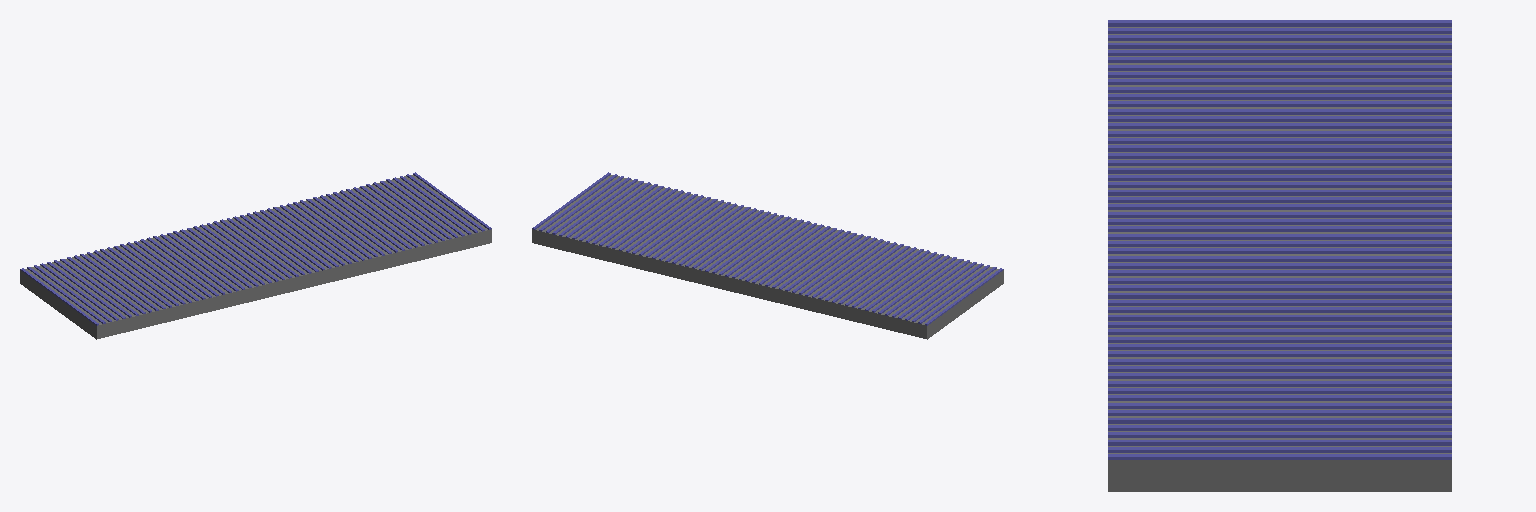
--- What the picture shows (computed from the rendered views, not written in the file) ---
3 views of the same robot in one strip: view 1: azimuth 30°, elevation 25°; view 2: azimuth 150°, elevation 25°; view 3: azimuth 270°, elevation 25° (orthographic).
Model generated_robot with 1 links and 0 joints (none), rooted at terrain, posed every joint at zero.
Visible links, largest first — view 1: terrain; view 2: terrain; view 3: terrain.
Boxes of the visible links, x1,y1,x2,y2 form: terrain: (20,172,491,339); terrain: (532,172,1003,339); terrain: (1108,20,1451,491).
Bounding box of the posed robot: 1.5 × 0.5 × 0.055 m (x, y, z).
Geometry: primitives only (box / cylinder / sphere), no mesh files.

robot.urdf — generated_robot:
<?xml version='1.0' encoding='utf-8'?>
<robot xmlns:drake="http://drake.mit.edu" name="generated_robot">
  <link name="terrain">
    <visual>
      <origin xyz="0 0 0" rpy="0 0 0" />
      <geometry>
        <box size="1.5 0.5 0.05" />
      </geometry>
      <material name="base_mat">
        <color rgba="0.5 0.5 0.5 1.0" />
      </material>
    </visual>
    <collision>
      <origin xyz="0 0 0" rpy="0 0 0" />
      <geometry>
        <box size="1.5 0.5 0.05" />
      </geometry>
      <drake:proximity_properties>
        <drake:compliant_hydroelastic />
        <drake:hydroelastic_modulus value="5e7" />
        <drake:hunt_crossley_dissipation value="1.0" />
        <drake:resolution_hint value="0.01" />
        <drake:mu_static value="0.15" />
        <drake:mu_dynamic value="0.12" />
      </drake:proximity_properties>
    </collision>
    <visual>
      <origin xyz="-0.745 0.0 0.0275" rpy="0 0 0" />
      <geometry>
        <box size="0.01 0.5 0.005" />
      </geometry>
      <material name="bump_0_mat">
        <color rgba="0.4 0.4 0.7 1.0" />
      </material>
    </visual>
    <collision>
      <origin xyz="-0.745 0.0 0.0275" rpy="0 0 0" />
      <geometry>
        <box size="0.01 0.5 0.005" />
      </geometry>
      <drake:proximity_properties>
        <drake:compliant_hydroelastic />
        <drake:hydroelastic_modulus value="5e7" />
        <drake:hunt_crossley_dissipation value="1.0" />
        <drake:resolution_hint value="0.01" />
        <drake:mu_static value="0.15" />
        <drake:mu_dynamic value="0.12" />
      </drake:proximity_properties>
    </collision>
    <visual>
      <origin xyz="-0.7197457627118644 0.0 0.0275" rpy="0 0 0" />
      <geometry>
        <box size="0.01 0.5 0.005" />
      </geometry>
      <material name="bump_1_mat">
        <color rgba="0.4 0.4 0.7 1.0" />
      </material>
    </visual>
    <collision>
      <origin xyz="-0.7197457627118644 0.0 0.0275" rpy="0 0 0" />
      <geometry>
        <box size="0.01 0.5 0.005" />
      </geometry>
      <drake:proximity_properties>
        <drake:compliant_hydroelastic />
        <drake:hydroelastic_modulus value="5e7" />
        <drake:hunt_crossley_dissipation value="1.0" />
        <drake:resolution_hint value="0.01" />
        <drake:mu_static value="0.15" />
        <drake:mu_dynamic value="0.12" />
      </drake:proximity_properties>
    </collision>
    <visual>
      <origin xyz="-0.6944915254237288 0.0 0.0275" rpy="0 0 0" />
      <geometry>
        <box size="0.01 0.5 0.005" />
      </geometry>
      <material name="bump_2_mat">
        <color rgba="0.4 0.4 0.7 1.0" />
      </material>
    </visual>
    <collision>
      <origin xyz="-0.6944915254237288 0.0 0.0275" rpy="0 0 0" />
      <geometry>
        <box size="0.01 0.5 0.005" />
      </geometry>
      <drake:proximity_properties>
        <drake:compliant_hydroelastic />
        <drake:hydroelastic_modulus value="5e7" />
        <drake:hunt_crossley_dissipation value="1.0" />
        <drake:resolution_hint value="0.01" />
        <drake:mu_static value="0.15" />
        <drake:mu_dynamic value="0.12" />
      </drake:proximity_properties>
    </collision>
    <visual>
      <origin xyz="-0.6692372881355932 0.0 0.0275" rpy="0 0 0" />
      <geometry>
        <box size="0.01 0.5 0.005" />
      </geometry>
      <material name="bump_3_mat">
        <color rgba="0.4 0.4 0.7 1.0" />
      </material>
    </visual>
    <collision>
      <origin xyz="-0.6692372881355932 0.0 0.0275" rpy="0 0 0" />
      <geometry>
        <box size="0.01 0.5 0.005" />
      </geometry>
      <drake:proximity_properties>
        <drake:compliant_hydroelastic />
        <drake:hydroelastic_modulus value="5e7" />
        <drake:hunt_crossley_dissipation value="1.0" />
        <drake:resolution_hint value="0.01" />
        <drake:mu_static value="0.15" />
        <drake:mu_dynamic value="0.12" />
      </drake:proximity_properties>
    </collision>
    <visual>
      <origin xyz="-0.6439830508474577 0.0 0.0275" rpy="0 0 0" />
      <geometry>
        <box size="0.01 0.5 0.005" />
      </geometry>
      <material name="bump_4_mat">
        <color rgba="0.4 0.4 0.7 1.0" />
      </material>
    </visual>
    <collision>
      <origin xyz="-0.6439830508474577 0.0 0.0275" rpy="0 0 0" />
      <geometry>
        <box size="0.01 0.5 0.005" />
      </geometry>
      <drake:proximity_properties>
        <drake:compliant_hydroelastic />
        <drake:hydroelastic_modulus value="5e7" />
        <drake:hunt_crossley_dissipation value="1.0" />
        <drake:resolution_hint value="0.01" />
        <drake:mu_static value="0.15" />
        <drake:mu_dynamic value="0.12" />
      </drake:proximity_properties>
    </collision>
    <visual>
      <origin xyz="-0.6187288135593221 0.0 0.0275" rpy="0 0 0" />
      <geometry>
        <box size="0.01 0.5 0.005" />
      </geometry>
      <material name="bump_5_mat">
        <color rgba="0.4 0.4 0.7 1.0" />
      </material>
    </visual>
    <collision>
      <origin xyz="-0.6187288135593221 0.0 0.0275" rpy="0 0 0" />
      <geometry>
        <box size="0.01 0.5 0.005" />
      </geometry>
      <drake:proximity_properties>
        <drake:compliant_hydroelastic />
        <drake:hydroelastic_modulus value="5e7" />
        <drake:hunt_crossley_dissipation value="1.0" />
        <drake:resolution_hint value="0.01" />
        <drake:mu_static value="0.15" />
        <drake:mu_dynamic value="0.12" />
      </drake:proximity_properties>
    </collision>
    <visual>
      <origin xyz="-0.5934745762711864 0.0 0.0275" rpy="0 0 0" />
      <geometry>
        <box size="0.01 0.5 0.005" />
      </geometry>
      <material name="bump_6_mat">
        <color rgba="0.4 0.4 0.7 1.0" />
      </material>
    </visual>
    <collision>
      <origin xyz="-0.5934745762711864 0.0 0.0275" rpy="0 0 0" />
      <geometry>
        <box size="0.01 0.5 0.005" />
      </geometry>
      <drake:proximity_properties>
        <drake:compliant_hydroelastic />
        <drake:hydroelastic_modulus value="5e7" />
        <drake:hunt_crossley_dissipation value="1.0" />
        <drake:resolution_hint value="0.01" />
        <drake:mu_static value="0.15" />
        <drake:mu_dynamic value="0.12" />
      </drake:proximity_properties>
    </collision>
    <visual>
      <origin xyz="-0.5682203389830508 0.0 0.0275" rpy="0 0 0" />
      <geometry>
        <box size="0.01 0.5 0.005" />
      </geometry>
      <material name="bump_7_mat">
        <color rgba="0.4 0.4 0.7 1.0" />
      </material>
    </visual>
    <collision>
      <origin xyz="-0.5682203389830508 0.0 0.0275" rpy="0 0 0" />
      <geometry>
        <box size="0.01 0.5 0.005" />
      </geometry>
      <drake:proximity_properties>
        <drake:compliant_hydroelastic />
        <drake:hydroelastic_modulus value="5e7" />
        <drake:hunt_crossley_dissipation value="1.0" />
        <drake:resolution_hint value="0.01" />
        <drake:mu_static value="0.15" />
        <drake:mu_dynamic value="0.12" />
      </drake:proximity_properties>
    </collision>
    <visual>
      <origin xyz="-0.5429661016949152 0.0 0.0275" rpy="0 0 0" />
      <geometry>
        <box size="0.01 0.5 0.005" />
      </geometry>
      <material name="bump_8_mat">
        <color rgba="0.4 0.4 0.7 1.0" />
      </material>
    </visual>
    <collision>
      <origin xyz="-0.5429661016949152 0.0 0.0275" rpy="0 0 0" />
      <geometry>
        <box size="0.01 0.5 0.005" />
      </geometry>
      <drake:proximity_properties>
        <drake:compliant_hydroelastic />
        <drake:hydroelastic_modulus value="5e7" />
        <drake:hunt_crossley_dissipation value="1.0" />
        <drake:resolution_hint value="0.01" />
        <drake:mu_static value="0.15" />
        <drake:mu_dynamic value="0.12" />
      </drake:proximity_properties>
    </collision>
    <visual>
      <origin xyz="-0.5177118644067796 0.0 0.0275" rpy="0 0 0" />
      <geometry>
        <box size="0.01 0.5 0.005" />
      </geometry>
      <material name="bump_9_mat">
        <color rgba="0.4 0.4 0.7 1.0" />
      </material>
    </visual>
    <collision>
      <origin xyz="-0.5177118644067796 0.0 0.0275" rpy="0 0 0" />
      <geometry>
        <box size="0.01 0.5 0.005" />
      </geometry>
      <drake:proximity_properties>
        <drake:compliant_hydroelastic />
        <drake:hydroelastic_modulus value="5e7" />
        <drake:hunt_crossley_dissipation value="1.0" />
        <drake:resolution_hint value="0.01" />
        <drake:mu_static value="0.15" />
        <drake:mu_dynamic value="0.12" />
      </drake:proximity_properties>
    </collision>
    <visual>
      <origin xyz="-0.49245762711864405 0.0 0.0275" rpy="0 0 0" />
      <geometry>
        <box size="0.01 0.5 0.005" />
      </geometry>
      <material name="bump_10_mat">
        <color rgba="0.4 0.4 0.7 1.0" />
      </material>
    </visual>
    <collision>
      <origin xyz="-0.49245762711864405 0.0 0.0275" rpy="0 0 0" />
      <geometry>
        <box size="0.01 0.5 0.005" />
      </geometry>
      <drake:proximity_properties>
        <drake:compliant_hydroelastic />
        <drake:hydroelastic_modulus value="5e7" />
        <drake:hunt_crossley_dissipation value="1.0" />
        <drake:resolution_hint value="0.01" />
        <drake:mu_static value="0.15" />
        <drake:mu_dynamic value="0.12" />
      </drake:proximity_properties>
    </collision>
    <visual>
      <origin xyz="-0.46720338983050846 0.0 0.0275" rpy="0 0 0" />
      <geometry>
        <box size="0.01 0.5 0.005" />
      </geometry>
      <material name="bump_11_mat">
        <color rgba="0.4 0.4 0.7 1.0" />
      </material>
    </visual>
    <collision>
      <origin xyz="-0.46720338983050846 0.0 0.0275" rpy="0 0 0" />
      <geometry>
        <box size="0.01 0.5 0.005" />
      </geometry>
      <drake:proximity_properties>
        <drake:compliant_hydroelastic />
        <drake:hydroelastic_modulus value="5e7" />
        <drake:hunt_crossley_dissipation value="1.0" />
        <drake:resolution_hint value="0.01" />
        <drake:mu_static value="0.15" />
        <drake:mu_dynamic value="0.12" />
      </drake:proximity_properties>
    </collision>
    <visual>
      <origin xyz="-0.4419491525423729 0.0 0.0275" rpy="0 0 0" />
      <geometry>
        <box size="0.01 0.5 0.005" />
      </geometry>
      <material name="bump_12_mat">
        <color rgba="0.4 0.4 0.7 1.0" />
      </material>
    </visual>
    <collision>
      <origin xyz="-0.4419491525423729 0.0 0.0275" rpy="0 0 0" />
      <geometry>
        <box size="0.01 0.5 0.005" />
      </geometry>
      <drake:proximity_properties>
        <drake:compliant_hydroelastic />
        <drake:hydroelastic_modulus value="5e7" />
        <drake:hunt_crossley_dissipation value="1.0" />
        <drake:resolution_hint value="0.01" />
        <drake:mu_static value="0.15" />
        <drake:mu_dynamic value="0.12" />
      </drake:proximity_properties>
    </collision>
    <visual>
      <origin xyz="-0.4166949152542373 0.0 0.0275" rpy="0 0 0" />
      <geometry>
        <box size="0.01 0.5 0.005" />
      </geometry>
      <material name="bump_13_mat">
        <color rgba="0.4 0.4 0.7 1.0" />
      </material>
    </visual>
    <collision>
      <origin xyz="-0.4166949152542373 0.0 0.0275" rpy="0 0 0" />
      <geometry>
        <box size="0.01 0.5 0.005" />
      </geometry>
      <drake:proximity_properties>
        <drake:compliant_hydroelastic />
        <drake:hydroelastic_modulus value="5e7" />
        <drake:hunt_crossley_dissipation value="1.0" />
        <drake:resolution_hint value="0.01" />
        <drake:mu_static value="0.15" />
        <drake:mu_dynamic value="0.12" />
      </drake:proximity_properties>
    </collision>
    <visual>
      <origin xyz="-0.39144067796610166 0.0 0.0275" rpy="0 0 0" />
      <geometry>
        <box size="0.01 0.5 0.005" />
      </geometry>
      <material name="bump_14_mat">
        <color rgba="0.4 0.4 0.7 1.0" />
      </material>
    </visual>
    <collision>
      <origin xyz="-0.39144067796610166 0.0 0.0275" rpy="0 0 0" />
      <geometry>
        <box size="0.01 0.5 0.005" />
      </geometry>
      <drake:proximity_properties>
        <drake:compliant_hydroelastic />
        <drake:hydroelastic_modulus value="5e7" />
        <drake:hunt_crossley_dissipation value="1.0" />
        <drake:resolution_hint value="0.01" />
        <drake:mu_static value="0.15" />
        <drake:mu_dynamic value="0.12" />
      </drake:proximity_properties>
    </collision>
    <visual>
      <origin xyz="-0.3661864406779661 0.0 0.0275" rpy="0 0 0" />
      <geometry>
        <box size="0.01 0.5 0.005" />
      </geometry>
      <material name="bump_15_mat">
        <color rgba="0.4 0.4 0.7 1.0" />
      </material>
    </visual>
    <collision>
      <origin xyz="-0.3661864406779661 0.0 0.0275" rpy="0 0 0" />
      <geometry>
        <box size="0.01 0.5 0.005" />
      </geometry>
      <drake:proximity_properties>
        <drake:compliant_hydroelastic />
        <drake:hydroelastic_modulus value="5e7" />
        <drake:hunt_crossley_dissipation value="1.0" />
        <drake:resolution_hint value="0.01" />
        <drake:mu_static value="0.15" />
        <drake:mu_dynamic value="0.12" />
      </drake:proximity_properties>
    </collision>
    <visual>
      <origin xyz="-0.3409322033898305 0.0 0.0275" rpy="0 0 0" />
      <geometry>
        <box size="0.01 0.5 0.005" />
      </geometry>
      <material name="bump_16_mat">
        <color rgba="0.4 0.4 0.7 1.0" />
      </material>
    </visual>
    <collision>
      <origin xyz="-0.3409322033898305 0.0 0.0275" rpy="0 0 0" />
      <geometry>
        <box size="0.01 0.5 0.005" />
      </geometry>
      <drake:proximity_properties>
        <drake:compliant_hydroelastic />
        <drake:hydroelastic_modulus value="5e7" />
        <drake:hunt_crossley_dissipation value="1.0" />
        <drake:resolution_hint value="0.01" />
        <drake:mu_static value="0.15" />
        <drake:mu_dynamic value="0.12" />
      </drake:proximity_properties>
    </collision>
    <visual>
      <origin xyz="-0.3156779661016949 0.0 0.0275" rpy="0 0 0" />
      <geometry>
        <box size="0.01 0.5 0.005" />
      </geometry>
      <material name="bump_17_mat">
        <color rgba="0.4 0.4 0.7 1.0" />
      </material>
    </visual>
    <collision>
      <origin xyz="-0.3156779661016949 0.0 0.0275" rpy="0 0 0" />
      <geometry>
        <box size="0.01 0.5 0.005" />
      </geometry>
      <drake:proximity_properties>
        <drake:compliant_hydroelastic />
        <drake:hydroelastic_modulus value="5e7" />
        <drake:hunt_crossley_dissipation value="1.0" />
        <drake:resolution_hint value="0.01" />
        <drake:mu_static value="0.15" />
        <drake:mu_dynamic value="0.12" />
      </drake:proximity_properties>
    </collision>
    <visual>
      <origin xyz="-0.2904237288135593 0.0 0.0275" rpy="0 0 0" />
      <geometry>
        <box size="0.01 0.5 0.005" />
      </geometry>
      <material name="bump_18_mat">
        <color rgba="0.4 0.4 0.7 1.0" />
      </material>
    </visual>
    <collision>
      <origin xyz="-0.2904237288135593 0.0 0.0275" rpy="0 0 0" />
      <geometry>
        <box size="0.01 0.5 0.005" />
      </geometry>
      <drake:proximity_properties>
        <drake:compliant_hydroelastic />
        <drake:hydroelastic_modulus value="5e7" />
        <drake:hunt_crossley_dissipation value="1.0" />
        <drake:resolution_hint value="0.01" />
        <drake:mu_static value="0.15" />
        <drake:mu_dynamic value="0.12" />
      </drake:proximity_properties>
    </collision>
    <visual>
      <origin xyz="-0.2651694915254237 0.0 0.0275" rpy="0 0 0" />
      <geometry>
        <box size="0.01 0.5 0.005" />
      </geometry>
      <material name="bump_19_mat">
        <color rgba="0.4 0.4 0.7 1.0" />
      </material>
    </visual>
    <collision>
      <origin xyz="-0.2651694915254237 0.0 0.0275" rpy="0 0 0" />
      <geometry>
        <box size="0.01 0.5 0.005" />
      </geometry>
      <drake:proximity_properties>
        <drake:compliant_hydroelastic />
        <drake:hydroelastic_modulus value="5e7" />
        <drake:hunt_crossley_dissipation value="1.0" />
        <drake:resolution_hint value="0.01" />
        <drake:mu_static value="0.15" />
        <drake:mu_dynamic value="0.12" />
      </drake:proximity_properties>
    </collision>
    <visual>
      <origin xyz="-0.2399152542372881 0.0 0.0275" rpy="0 0 0" />
      <geometry>
        <box size="0.01 0.5 0.005" />
      </geometry>
      <material name="bump_20_mat">
        <color rgba="0.4 0.4 0.7 1.0" />
      </material>
    </visual>
    <collision>
      <origin xyz="-0.2399152542372881 0.0 0.0275" rpy="0 0 0" />
      <geometry>
        <box size="0.01 0.5 0.005" />
      </geometry>
      <drake:proximity_properties>
        <drake:compliant_hydroelastic />
        <drake:hydroelastic_modulus value="5e7" />
        <drake:hunt_crossley_dissipation value="1.0" />
        <drake:resolution_hint value="0.01" />
        <drake:mu_static value="0.15" />
        <drake:mu_dynamic value="0.12" />
      </drake:proximity_properties>
    </collision>
    <visual>
      <origin xyz="-0.21466101694915252 0.0 0.0275" rpy="0 0 0" />
      <geometry>
        <box size="0.01 0.5 0.005" />
      </geometry>
      <material name="bump_21_mat">
        <color rgba="0.4 0.4 0.7 1.0" />
      </material>
    </visual>
    <collision>
      <origin xyz="-0.21466101694915252 0.0 0.0275" rpy="0 0 0" />
      <geometry>
        <box size="0.01 0.5 0.005" />
      </geometry>
      <drake:proximity_properties>
        <drake:compliant_hydroelastic />
        <drake:hydroelastic_modulus value="5e7" />
        <drake:hunt_crossley_dissipation value="1.0" />
        <drake:resolution_hint value="0.01" />
        <drake:mu_static value="0.15" />
        <drake:mu_dynamic value="0.12" />
      </drake:proximity_properties>
    </collision>
    <visual>
      <origin xyz="-0.18940677966101693 0.0 0.0275" rpy="0 0 0" />
      <geometry>
        <box size="0.01 0.5 0.005" />
      </geometry>
      <material name="bump_22_mat">
        <color rgba="0.4 0.4 0.7 1.0" />
      </material>
    </visual>
    <collision>
      <origin xyz="-0.18940677966101693 0.0 0.0275" rpy="0 0 0" />
      <geometry>
        <box size="0.01 0.5 0.005" />
      </geometry>
      <drake:proximity_properties>
        <drake:compliant_hydroelastic />
        <drake:hydroelastic_modulus value="5e7" />
        <drake:hunt_crossley_dissipation value="1.0" />
        <drake:resolution_hint value="0.01" />
        <drake:mu_static value="0.15" />
        <drake:mu_dynamic value="0.12" />
      </drake:proximity_properties>
    </collision>
    <visual>
      <origin xyz="-0.16415254237288135 0.0 0.0275" rpy="0 0 0" />
      <geometry>
        <box size="0.01 0.5 0.005" />
      </geometry>
      <material name="bump_23_mat">
        <color rgba="0.4 0.4 0.7 1.0" />
      </material>
    </visual>
    <collision>
      <origin xyz="-0.16415254237288135 0.0 0.0275" rpy="0 0 0" />
      <geometry>
        <box size="0.01 0.5 0.005" />
      </geometry>
      <drake:proximity_properties>
        <drake:compliant_hydroelastic />
        <drake:hydroelastic_modulus value="5e7" />
        <drake:hunt_crossley_dissipation value="1.0" />
        <drake:resolution_hint value="0.01" />
        <drake:mu_static value="0.15" />
        <drake:mu_dynamic value="0.12" />
      </drake:proximity_properties>
    </collision>
    <visual>
      <origin xyz="-0.13889830508474577 0.0 0.0275" rpy="0 0 0" />
      <geometry>
        <box size="0.01 0.5 0.005" />
      </geometry>
      <material name="bump_24_mat">
        <color rgba="0.4 0.4 0.7 1.0" />
      </material>
    </visual>
    <collision>
      <origin xyz="-0.13889830508474577 0.0 0.0275" rpy="0 0 0" />
      <geometry>
        <box size="0.01 0.5 0.005" />
      </geometry>
      <drake:proximity_properties>
        <drake:compliant_hydroelastic />
        <drake:hydroelastic_modulus value="5e7" />
        <drake:hunt_crossley_dissipation value="1.0" />
        <drake:resolution_hint value="0.01" />
        <drake:mu_static value="0.15" />
        <drake:mu_dynamic value="0.12" />
      </drake:proximity_properties>
    </collision>
    <visual>
      <origin xyz="-0.11364406779661018 0.0 0.0275" rpy="0 0 0" />
      <geometry>
        <box size="0.01 0.5 0.005" />
      </geometry>
      <material name="bump_25_mat">
        <color rgba="0.4 0.4 0.7 1.0" />
      </material>
    </visual>
    <collision>
      <origin xyz="-0.11364406779661018 0.0 0.0275" rpy="0 0 0" />
      <geometry>
        <box size="0.01 0.5 0.005" />
      </geometry>
      <drake:proximity_properties>
        <drake:compliant_hydroelastic />
        <drake:hydroelastic_modulus value="5e7" />
        <drake:hunt_crossley_dissipation value="1.0" />
        <drake:resolution_hint value="0.01" />
        <drake:mu_static value="0.15" />
        <drake:mu_dynamic value="0.12" />
      </drake:proximity_properties>
    </collision>
    <visual>
      <origin xyz="-0.0883898305084746 0.0 0.0275" rpy="0 0 0" />
      <geometry>
        <box size="0.01 0.5 0.005" />
      </geometry>
      <material name="bump_26_mat">
        <color rgba="0.4 0.4 0.7 1.0" />
      </material>
    </visual>
    <collision>
      <origin xyz="-0.0883898305084746 0.0 0.0275" rpy="0 0 0" />
      <geometry>
        <box size="0.01 0.5 0.005" />
      </geometry>
      <drake:proximity_properties>
        <drake:compliant_hydroelastic />
        <drake:hydroelastic_modulus value="5e7" />
        <drake:hunt_crossley_dissipation value="1.0" />
        <drake:resolution_hint value="0.01" />
        <drake:mu_static value="0.15" />
        <drake:mu_dynamic value="0.12" />
      </drake:proximity_properties>
    </collision>
    <visual>
      <origin xyz="-0.0631355932203389 0.0 0.0275" rpy="0 0 0" />
      <geometry>
        <box size="0.01 0.5 0.005" />
      </geometry>
      <material name="bump_27_mat">
        <color rgba="0.4 0.4 0.7 1.0" />
      </material>
    </visual>
    <collision>
      <origin xyz="-0.0631355932203389 0.0 0.0275" rpy="0 0 0" />
      <geometry>
        <box size="0.01 0.5 0.005" />
      </geometry>
      <drake:proximity_properties>
        <drake:compliant_hydroelastic />
        <drake:hydroelastic_modulus value="5e7" />
        <drake:hunt_crossley_dissipation value="1.0" />
        <drake:resolution_hint value="0.01" />
        <drake:mu_static value="0.15" />
        <drake:mu_dynamic value="0.12" />
      </drake:proximity_properties>
    </collision>
    <visual>
      <origin xyz="-0.03788135593220332 0.0 0.0275" rpy="0 0 0" />
      <geometry>
        <box size="0.01 0.5 0.005" />
      </geometry>
      <material name="bump_28_mat">
        <color rgba="0.4 0.4 0.7 1.0" />
      </material>
    </visual>
    <collision>
      <origin xyz="-0.03788135593220332 0.0 0.0275" rpy="0 0 0" />
      <geometry>
        <box size="0.01 0.5 0.005" />
      </geometry>
      <drake:proximity_properties>
        <drake:compliant_hydroelastic />
        <drake:hydroelastic_modulus value="5e7" />
        <drake:hunt_crossley_dissipation value="1.0" />
        <drake:resolution_hint value="0.01" />
        <drake:mu_static value="0.15" />
        <drake:mu_dynamic value="0.12" />
      </drake:proximity_properties>
    </collision>
    <visual>
      <origin xyz="-0.012627118644067736 0.0 0.0275" rpy="0 0 0" />
      <geometry>
        <box size="0.01 0.5 0.005" />
      </geometry>
      <material name="bump_29_mat">
        <color rgba="0.4 0.4 0.7 1.0" />
      </material>
    </visual>
    <collision>
      <origin xyz="-0.012627118644067736 0.0 0.0275" rpy="0 0 0" />
      <geometry>
        <box size="0.01 0.5 0.005" />
      </geometry>
      <drake:proximity_properties>
        <drake:compliant_hydroelastic />
        <drake:hydroelastic_modulus value="5e7" />
        <drake:hunt_crossley_dissipation value="1.0" />
        <drake:resolution_hint value="0.01" />
        <drake:mu_static value="0.15" />
        <drake:mu_dynamic value="0.12" />
      </drake:proximity_properties>
    </collision>
    <visual>
      <origin xyz="0.012627118644067847 0.0 0.0275" rpy="0 0 0" />
      <geometry>
        <box size="0.01 0.5 0.005" />
      </geometry>
      <material name="bump_30_mat">
        <color rgba="0.4 0.4 0.7 1.0" />
      </material>
    </visual>
    <collision>
      <origin xyz="0.012627118644067847 0.0 0.0275" rpy="0 0 0" />
      <geometry>
        <box size="0.01 0.5 0.005" />
      </geometry>
      <drake:proximity_properties>
        <drake:compliant_hydroelastic />
        <drake:hydroelastic_modulus value="5e7" />
        <drake:hunt_crossley_dissipation value="1.0" />
        <drake:resolution_hint value="0.01" />
        <drake:mu_static value="0.15" />
        <drake:mu_dynamic value="0.12" />
      </drake:proximity_properties>
    </collision>
    <visual>
      <origin xyz="0.03788135593220343 0.0 0.0275" rpy="0 0 0" />
      <geometry>
        <box size="0.01 0.5 0.005" />
      </geometry>
      <material name="bump_31_mat">
        <color rgba="0.4 0.4 0.7 1.0" />
      </material>
    </visual>
    <collision>
      <origin xyz="0.03788135593220343 0.0 0.0275" rpy="0 0 0" />
      <geometry>
        <box size="0.01 0.5 0.005" />
      </geometry>
      <drake:proximity_properties>
        <drake:compliant_hydroelastic />
        <drake:hydroelastic_modulus value="5e7" />
        <drake:hunt_crossley_dissipation value="1.0" />
        <drake:resolution_hint value="0.01" />
        <drake:mu_static value="0.15" />
        <drake:mu_dynamic value="0.12" />
      </drake:proximity_properties>
    </collision>
    <visual>
      <origin xyz="0.06313559322033901 0.0 0.0275" rpy="0 0 0" />
      <geometry>
        <box size="0.01 0.5 0.005" />
      </geometry>
      <material name="bump_32_mat">
        <color rgba="0.4 0.4 0.7 1.0" />
      </material>
    </visual>
    <collision>
      <origin xyz="0.06313559322033901 0.0 0.0275" rpy="0 0 0" />
      <geometry>
        <box size="0.01 0.5 0.005" />
      </geometry>
      <drake:proximity_properties>
        <drake:compliant_hydroelastic />
        <drake:hydroelastic_modulus value="5e7" />
        <drake:hunt_crossley_dissipation value="1.0" />
        <drake:resolution_hint value="0.01" />
        <drake:mu_static value="0.15" />
        <drake:mu_dynamic value="0.12" />
      </drake:proximity_properties>
    </collision>
    <visual>
      <origin xyz="0.0883898305084746 0.0 0.0275" rpy="0 0 0" />
      <geometry>
        <box size="0.01 0.5 0.005" />
      </geometry>
      <material name="bump_33_mat">
        <color rgba="0.4 0.4 0.7 1.0" />
      </material>
    </visual>
    <collision>
      <origin xyz="0.0883898305084746 0.0 0.0275" rpy="0 0 0" />
      <geometry>
        <box size="0.01 0.5 0.005" />
      </geometry>
      <drake:proximity_properties>
        <drake:compliant_hydroelastic />
        <drake:hydroelastic_modulus value="5e7" />
        <drake:hunt_crossley_dissipation value="1.0" />
        <drake:resolution_hint value="0.01" />
        <drake:mu_static value="0.15" />
        <drake:mu_dynamic value="0.12" />
      </drake:proximity_properties>
    </collision>
    <visual>
      <origin xyz="0.11364406779661018 0.0 0.0275" rpy="0 0 0" />
      <geometry>
        <box size="0.01 0.5 0.005" />
      </geometry>
      <material name="bump_34_mat">
        <color rgba="0.4 0.4 0.7 1.0" />
      </material>
    </visual>
    <collision>
      <origin xyz="0.11364406779661018 0.0 0.0275" rpy="0 0 0" />
      <geometry>
        <box size="0.01 0.5 0.005" />
      </geometry>
      <drake:proximity_properties>
        <drake:compliant_hydroelastic />
        <drake:hydroelastic_modulus value="5e7" />
        <drake:hunt_crossley_dissipation value="1.0" />
        <drake:resolution_hint value="0.01" />
        <drake:mu_static value="0.15" />
        <drake:mu_dynamic value="0.12" />
      </drake:proximity_properties>
    </collision>
    <visual>
      <origin xyz="0.13889830508474577 0.0 0.0275" rpy="0 0 0" />
      <geometry>
        <box size="0.01 0.5 0.005" />
      </geometry>
      <material name="bump_35_mat">
        <color rgba="0.4 0.4 0.7 1.0" />
      </material>
    </visual>
    <collision>
      <origin xyz="0.13889830508474577 0.0 0.0275" rpy="0 0 0" />
      <geometry>
        <box size="0.01 0.5 0.005" />
      </geometry>
      <drake:proximity_properties>
        <drake:compliant_hydroelastic />
        <drake:hydroelastic_modulus value="5e7" />
        <drake:hunt_crossley_dissipation value="1.0" />
        <drake:resolution_hint value="0.01" />
        <drake:mu_static value="0.15" />
        <drake:mu_dynamic value="0.12" />
      </drake:proximity_properties>
    </collision>
    <visual>
      <origin xyz="0.16415254237288135 0.0 0.0275" rpy="0 0 0" />
      <geometry>
        <box size="0.01 0.5 0.005" />
      </geometry>
      <material name="bump_36_mat">
        <color rgba="0.4 0.4 0.7 1.0" />
      </material>
    </visual>
    <collision>
      <origin xyz="0.16415254237288135 0.0 0.0275" rpy="0 0 0" />
      <geometry>
        <box size="0.01 0.5 0.005" />
      </geometry>
      <drake:proximity_properties>
        <drake:compliant_hydroelastic />
        <drake:hydroelastic_modulus value="5e7" />
        <drake:hunt_crossley_dissipation value="1.0" />
        <drake:resolution_hint value="0.01" />
        <drake:mu_static value="0.15" />
        <drake:mu_dynamic value="0.12" />
      </drake:proximity_properties>
    </collision>
    <visual>
      <origin xyz="0.18940677966101693 0.0 0.0275" rpy="0 0 0" />
      <geometry>
        <box size="0.01 0.5 0.005" />
      </geometry>
      <material name="bump_37_mat">
        <color rgba="0.4 0.4 0.7 1.0" />
      </material>
    </visual>
    <collision>
      <origin xyz="0.18940677966101693 0.0 0.0275" rpy="0 0 0" />
      <geometry>
        <box size="0.01 0.5 0.005" />
      </geometry>
      <drake:proximity_properties>
        <drake:compliant_hydroelastic />
        <drake:hydroelastic_modulus value="5e7" />
        <drake:hunt_crossley_dissipation value="1.0" />
        <drake:resolution_hint value="0.01" />
        <drake:mu_static value="0.15" />
        <drake:mu_dynamic value="0.12" />
      </drake:proximity_properties>
    </collision>
    <visual>
      <origin xyz="0.21466101694915263 0.0 0.0275" rpy="0 0 0" />
      <geometry>
        <box size="0.01 0.5 0.005" />
      </geometry>
      <material name="bump_38_mat">
        <color rgba="0.4 0.4 0.7 1.0" />
      </material>
    </visual>
    <collision>
      <origin xyz="0.21466101694915263 0.0 0.0275" rpy="0 0 0" />
      <geometry>
        <box size="0.01 0.5 0.005" />
      </geometry>
      <drake:proximity_properties>
        <drake:compliant_hydroelastic />
        <drake:hydroelastic_modulus value="5e7" />
        <drake:hunt_crossley_dissipation value="1.0" />
        <drake:resolution_hint value="0.01" />
        <drake:mu_static value="0.15" />
        <drake:mu_dynamic value="0.12" />
      </drake:proximity_properties>
    </collision>
    <visual>
      <origin xyz="0.2399152542372882 0.0 0.0275" rpy="0 0 0" />
      <geometry>
        <box size="0.01 0.5 0.005" />
      </geometry>
      <material name="bump_39_mat">
        <color rgba="0.4 0.4 0.7 1.0" />
      </material>
    </visual>
    <collision>
      <origin xyz="0.2399152542372882 0.0 0.0275" rpy="0 0 0" />
      <geometry>
        <box size="0.01 0.5 0.005" />
      </geometry>
      <drake:proximity_properties>
        <drake:compliant_hydroelastic />
        <drake:hydroelastic_modulus value="5e7" />
        <drake:hunt_crossley_dissipation value="1.0" />
        <drake:resolution_hint value="0.01" />
        <drake:mu_static value="0.15" />
        <drake:mu_dynamic value="0.12" />
      </drake:proximity_properties>
    </collision>
    <visual>
      <origin xyz="0.2651694915254238 0.0 0.0275" rpy="0 0 0" />
      <geometry>
        <box size="0.01 0.5 0.005" />
      </geometry>
      <material name="bump_40_mat">
        <color rgba="0.4 0.4 0.7 1.0" />
      </material>
    </visual>
    <collision>
      <origin xyz="0.2651694915254238 0.0 0.0275" rpy="0 0 0" />
      <geometry>
        <box size="0.01 0.5 0.005" />
      </geometry>
      <drake:proximity_properties>
        <drake:compliant_hydroelastic />
        <drake:hydroelastic_modulus value="5e7" />
        <drake:hunt_crossley_dissipation value="1.0" />
        <drake:resolution_hint value="0.01" />
        <drake:mu_static value="0.15" />
        <drake:mu_dynamic value="0.12" />
      </drake:proximity_properties>
    </collision>
    <visual>
      <origin xyz="0.29042372881355927 0.0 0.0275" rpy="0 0 0" />
      <geometry>
        <box size="0.01 0.5 0.005" />
      </geometry>
      <material name="bump_41_mat">
        <color rgba="0.4 0.4 0.7 1.0" />
      </material>
    </visual>
    <collision>
      <origin xyz="0.29042372881355927 0.0 0.0275" rpy="0 0 0" />
      <geometry>
        <box size="0.01 0.5 0.005" />
      </geometry>
      <drake:proximity_properties>
        <drake:compliant_hydroelastic />
        <drake:hydroelastic_modulus value="5e7" />
        <drake:hunt_crossley_dissipation value="1.0" />
        <drake:resolution_hint value="0.01" />
        <drake:mu_static value="0.15" />
        <drake:mu_dynamic value="0.12" />
      </drake:proximity_properties>
    </collision>
    <visual>
      <origin xyz="0.31567796610169496 0.0 0.0275" rpy="0 0 0" />
      <geometry>
        <box size="0.01 0.5 0.005" />
      </geometry>
      <material name="bump_42_mat">
        <color rgba="0.4 0.4 0.7 1.0" />
      </material>
    </visual>
    <collision>
      <origin xyz="0.31567796610169496 0.0 0.0275" rpy="0 0 0" />
      <geometry>
        <box size="0.01 0.5 0.005" />
      </geometry>
      <drake:proximity_properties>
        <drake:compliant_hydroelastic />
        <drake:hydroelastic_modulus value="5e7" />
        <drake:hunt_crossley_dissipation value="1.0" />
        <drake:resolution_hint value="0.01" />
        <drake:mu_static value="0.15" />
        <drake:mu_dynamic value="0.12" />
      </drake:proximity_properties>
    </collision>
    <visual>
      <origin xyz="0.34093220338983066 0.0 0.0275" rpy="0 0 0" />
      <geometry>
        <box size="0.01 0.5 0.005" />
      </geometry>
      <material name="bump_43_mat">
        <color rgba="0.4 0.4 0.7 1.0" />
      </material>
    </visual>
    <collision>
      <origin xyz="0.34093220338983066 0.0 0.0275" rpy="0 0 0" />
      <geometry>
        <box size="0.01 0.5 0.005" />
      </geometry>
      <drake:proximity_properties>
        <drake:compliant_hydroelastic />
        <drake:hydroelastic_modulus value="5e7" />
        <drake:hunt_crossley_dissipation value="1.0" />
        <drake:resolution_hint value="0.01" />
        <drake:mu_static value="0.15" />
        <drake:mu_dynamic value="0.12" />
      </drake:proximity_properties>
    </collision>
    <visual>
      <origin xyz="0.36618644067796613 0.0 0.0275" rpy="0 0 0" />
      <geometry>
        <box size="0.01 0.5 0.005" />
      </geometry>
      <material name="bump_44_mat">
        <color rgba="0.4 0.4 0.7 1.0" />
      </material>
    </visual>
    <collision>
      <origin xyz="0.36618644067796613 0.0 0.0275" rpy="0 0 0" />
      <geometry>
        <box size="0.01 0.5 0.005" />
      </geometry>
      <drake:proximity_properties>
        <drake:compliant_hydroelastic />
        <drake:hydroelastic_modulus value="5e7" />
        <drake:hunt_crossley_dissipation value="1.0" />
        <drake:resolution_hint value="0.01" />
        <drake:mu_static value="0.15" />
        <drake:mu_dynamic value="0.12" />
      </drake:proximity_properties>
    </collision>
    <visual>
      <origin xyz="0.3914406779661018 0.0 0.0275" rpy="0 0 0" />
      <geometry>
        <box size="0.01 0.5 0.005" />
      </geometry>
      <material name="bump_45_mat">
        <color rgba="0.4 0.4 0.7 1.0" />
      </material>
    </visual>
    <collision>
      <origin xyz="0.3914406779661018 0.0 0.0275" rpy="0 0 0" />
      <geometry>
        <box size="0.01 0.5 0.005" />
      </geometry>
      <drake:proximity_properties>
        <drake:compliant_hydroelastic />
        <drake:hydroelastic_modulus value="5e7" />
        <drake:hunt_crossley_dissipation value="1.0" />
        <drake:resolution_hint value="0.01" />
        <drake:mu_static value="0.15" />
        <drake:mu_dynamic value="0.12" />
      </drake:proximity_properties>
    </collision>
    <visual>
      <origin xyz="0.4166949152542373 0.0 0.0275" rpy="0 0 0" />
      <geometry>
        <box size="0.01 0.5 0.005" />
      </geometry>
      <material name="bump_46_mat">
        <color rgba="0.4 0.4 0.7 1.0" />
      </material>
    </visual>
    <collision>
      <origin xyz="0.4166949152542373 0.0 0.0275" rpy="0 0 0" />
      <geometry>
        <box size="0.01 0.5 0.005" />
      </geometry>
      <drake:proximity_properties>
        <drake:compliant_hydroelastic />
        <drake:hydroelastic_modulus value="5e7" />
        <drake:hunt_crossley_dissipation value="1.0" />
        <drake:resolution_hint value="0.01" />
        <drake:mu_static value="0.15" />
        <drake:mu_dynamic value="0.12" />
      </drake:proximity_properties>
    </collision>
    <visual>
      <origin xyz="0.441949152542373 0.0 0.0275" rpy="0 0 0" />
      <geometry>
        <box size="0.01 0.5 0.005" />
      </geometry>
      <material name="bump_47_mat">
        <color rgba="0.4 0.4 0.7 1.0" />
      </material>
    </visual>
    <collision>
      <origin xyz="0.441949152542373 0.0 0.0275" rpy="0 0 0" />
      <geometry>
        <box size="0.01 0.5 0.005" />
      </geometry>
      <drake:proximity_properties>
        <drake:compliant_hydroelastic />
        <drake:hydroelastic_modulus value="5e7" />
        <drake:hunt_crossley_dissipation value="1.0" />
        <drake:resolution_hint value="0.01" />
        <drake:mu_static value="0.15" />
        <drake:mu_dynamic value="0.12" />
      </drake:proximity_properties>
    </collision>
    <visual>
      <origin xyz="0.46720338983050846 0.0 0.0275" rpy="0 0 0" />
      <geometry>
        <box size="0.01 0.5 0.005" />
      </geometry>
      <material name="bump_48_mat">
        <color rgba="0.4 0.4 0.7 1.0" />
      </material>
    </visual>
    <collision>
      <origin xyz="0.46720338983050846 0.0 0.0275" rpy="0 0 0" />
      <geometry>
        <box size="0.01 0.5 0.005" />
      </geometry>
      <drake:proximity_properties>
        <drake:compliant_hydroelastic />
        <drake:hydroelastic_modulus value="5e7" />
        <drake:hunt_crossley_dissipation value="1.0" />
        <drake:resolution_hint value="0.01" />
        <drake:mu_static value="0.15" />
        <drake:mu_dynamic value="0.12" />
      </drake:proximity_properties>
    </collision>
    <visual>
      <origin xyz="0.49245762711864416 0.0 0.0275" rpy="0 0 0" />
      <geometry>
        <box size="0.01 0.5 0.005" />
      </geometry>
      <material name="bump_49_mat">
        <color rgba="0.4 0.4 0.7 1.0" />
      </material>
    </visual>
    <collision>
      <origin xyz="0.49245762711864416 0.0 0.0275" rpy="0 0 0" />
      <geometry>
        <box size="0.01 0.5 0.005" />
      </geometry>
      <drake:proximity_properties>
        <drake:compliant_hydroelastic />
        <drake:hydroelastic_modulus value="5e7" />
        <drake:hunt_crossley_dissipation value="1.0" />
        <drake:resolution_hint value="0.01" />
        <drake:mu_static value="0.15" />
        <drake:mu_dynamic value="0.12" />
      </drake:proximity_properties>
    </collision>
    <visual>
      <origin xyz="0.5177118644067796 0.0 0.0275" rpy="0 0 0" />
      <geometry>
        <box size="0.01 0.5 0.005" />
      </geometry>
      <material name="bump_50_mat">
        <color rgba="0.4 0.4 0.7 1.0" />
      </material>
    </visual>
    <collision>
      <origin xyz="0.5177118644067796 0.0 0.0275" rpy="0 0 0" />
      <geometry>
        <box size="0.01 0.5 0.005" />
      </geometry>
      <drake:proximity_properties>
        <drake:compliant_hydroelastic />
        <drake:hydroelastic_modulus value="5e7" />
        <drake:hunt_crossley_dissipation value="1.0" />
        <drake:resolution_hint value="0.01" />
        <drake:mu_static value="0.15" />
        <drake:mu_dynamic value="0.12" />
      </drake:proximity_properties>
    </collision>
    <visual>
      <origin xyz="0.5429661016949153 0.0 0.0275" rpy="0 0 0" />
      <geometry>
        <box size="0.01 0.5 0.005" />
      </geometry>
      <material name="bump_51_mat">
        <color rgba="0.4 0.4 0.7 1.0" />
      </material>
    </visual>
    <collision>
      <origin xyz="0.5429661016949153 0.0 0.0275" rpy="0 0 0" />
      <geometry>
        <box size="0.01 0.5 0.005" />
      </geometry>
      <drake:proximity_properties>
        <drake:compliant_hydroelastic />
        <drake:hydroelastic_modulus value="5e7" />
        <drake:hunt_crossley_dissipation value="1.0" />
        <drake:resolution_hint value="0.01" />
        <drake:mu_static value="0.15" />
        <drake:mu_dynamic value="0.12" />
      </drake:proximity_properties>
    </collision>
    <visual>
      <origin xyz="0.5682203389830508 0.0 0.0275" rpy="0 0 0" />
      <geometry>
        <box size="0.01 0.5 0.005" />
      </geometry>
      <material name="bump_52_mat">
        <color rgba="0.4 0.4 0.7 1.0" />
      </material>
    </visual>
    <collision>
      <origin xyz="0.5682203389830508 0.0 0.0275" rpy="0 0 0" />
      <geometry>
        <box size="0.01 0.5 0.005" />
      </geometry>
      <drake:proximity_properties>
        <drake:compliant_hydroelastic />
        <drake:hydroelastic_modulus value="5e7" />
        <drake:hunt_crossley_dissipation value="1.0" />
        <drake:resolution_hint value="0.01" />
        <drake:mu_static value="0.15" />
        <drake:mu_dynamic value="0.12" />
      </drake:proximity_properties>
    </collision>
    <visual>
      <origin xyz="0.5934745762711865 0.0 0.0275" rpy="0 0 0" />
      <geometry>
        <box size="0.01 0.5 0.005" />
      </geometry>
      <material name="bump_53_mat">
        <color rgba="0.4 0.4 0.7 1.0" />
      </material>
    </visual>
    <collision>
      <origin xyz="0.5934745762711865 0.0 0.0275" rpy="0 0 0" />
      <geometry>
        <box size="0.01 0.5 0.005" />
      </geometry>
      <drake:proximity_properties>
        <drake:compliant_hydroelastic />
        <drake:hydroelastic_modulus value="5e7" />
        <drake:hunt_crossley_dissipation value="1.0" />
        <drake:resolution_hint value="0.01" />
        <drake:mu_static value="0.15" />
        <drake:mu_dynamic value="0.12" />
      </drake:proximity_properties>
    </collision>
    <visual>
      <origin xyz="0.6187288135593222 0.0 0.0275" rpy="0 0 0" />
      <geometry>
        <box size="0.01 0.5 0.005" />
      </geometry>
      <material name="bump_54_mat">
        <color rgba="0.4 0.4 0.7 1.0" />
      </material>
    </visual>
    <collision>
      <origin xyz="0.6187288135593222 0.0 0.0275" rpy="0 0 0" />
      <geometry>
        <box size="0.01 0.5 0.005" />
      </geometry>
      <drake:proximity_properties>
        <drake:compliant_hydroelastic />
        <drake:hydroelastic_modulus value="5e7" />
        <drake:hunt_crossley_dissipation value="1.0" />
        <drake:resolution_hint value="0.01" />
        <drake:mu_static value="0.15" />
        <drake:mu_dynamic value="0.12" />
      </drake:proximity_properties>
    </collision>
    <visual>
      <origin xyz="0.6439830508474577 0.0 0.0275" rpy="0 0 0" />
      <geometry>
        <box size="0.01 0.5 0.005" />
      </geometry>
      <material name="bump_55_mat">
        <color rgba="0.4 0.4 0.7 1.0" />
      </material>
    </visual>
    <collision>
      <origin xyz="0.6439830508474577 0.0 0.0275" rpy="0 0 0" />
      <geometry>
        <box size="0.01 0.5 0.005" />
      </geometry>
      <drake:proximity_properties>
        <drake:compliant_hydroelastic />
        <drake:hydroelastic_modulus value="5e7" />
        <drake:hunt_crossley_dissipation value="1.0" />
        <drake:resolution_hint value="0.01" />
        <drake:mu_static value="0.15" />
        <drake:mu_dynamic value="0.12" />
      </drake:proximity_properties>
    </collision>
    <visual>
      <origin xyz="0.6692372881355934 0.0 0.0275" rpy="0 0 0" />
      <geometry>
        <box size="0.01 0.5 0.005" />
      </geometry>
      <material name="bump_56_mat">
        <color rgba="0.4 0.4 0.7 1.0" />
      </material>
    </visual>
    <collision>
      <origin xyz="0.6692372881355934 0.0 0.0275" rpy="0 0 0" />
      <geometry>
        <box size="0.01 0.5 0.005" />
      </geometry>
      <drake:proximity_properties>
        <drake:compliant_hydroelastic />
        <drake:hydroelastic_modulus value="5e7" />
        <drake:hunt_crossley_dissipation value="1.0" />
        <drake:resolution_hint value="0.01" />
        <drake:mu_static value="0.15" />
        <drake:mu_dynamic value="0.12" />
      </drake:proximity_properties>
    </collision>
    <visual>
      <origin xyz="0.6944915254237288 0.0 0.0275" rpy="0 0 0" />
      <geometry>
        <box size="0.01 0.5 0.005" />
      </geometry>
      <material name="bump_57_mat">
        <color rgba="0.4 0.4 0.7 1.0" />
      </material>
    </visual>
    <collision>
      <origin xyz="0.6944915254237288 0.0 0.0275" rpy="0 0 0" />
      <geometry>
        <box size="0.01 0.5 0.005" />
      </geometry>
      <drake:proximity_properties>
        <drake:compliant_hydroelastic />
        <drake:hydroelastic_modulus value="5e7" />
        <drake:hunt_crossley_dissipation value="1.0" />
        <drake:resolution_hint value="0.01" />
        <drake:mu_static value="0.15" />
        <drake:mu_dynamic value="0.12" />
      </drake:proximity_properties>
    </collision>
    <visual>
      <origin xyz="0.7197457627118645 0.0 0.0275" rpy="0 0 0" />
      <geometry>
        <box size="0.01 0.5 0.005" />
      </geometry>
      <material name="bump_58_mat">
        <color rgba="0.4 0.4 0.7 1.0" />
      </material>
    </visual>
    <collision>
      <origin xyz="0.7197457627118645 0.0 0.0275" rpy="0 0 0" />
      <geometry>
        <box size="0.01 0.5 0.005" />
      </geometry>
      <drake:proximity_properties>
        <drake:compliant_hydroelastic />
        <drake:hydroelastic_modulus value="5e7" />
        <drake:hunt_crossley_dissipation value="1.0" />
        <drake:resolution_hint value="0.01" />
        <drake:mu_static value="0.15" />
        <drake:mu_dynamic value="0.12" />
      </drake:proximity_properties>
    </collision>
    <visual>
      <origin xyz="0.745 0.0 0.0275" rpy="0 0 0" />
      <geometry>
        <box size="0.01 0.5 0.005" />
      </geometry>
      <material name="bump_59_mat">
        <color rgba="0.4 0.4 0.7 1.0" />
      </material>
    </visual>
    <collision>
      <origin xyz="0.745 0.0 0.0275" rpy="0 0 0" />
      <geometry>
        <box size="0.01 0.5 0.005" />
      </geometry>
      <drake:proximity_properties>
        <drake:compliant_hydroelastic />
        <drake:hydroelastic_modulus value="5e7" />
        <drake:hunt_crossley_dissipation value="1.0" />
        <drake:resolution_hint value="0.01" />
        <drake:mu_static value="0.15" />
        <drake:mu_dynamic value="0.12" />
      </drake:proximity_properties>
    </collision>
    <inertial>
      <origin xyz="0 0 0" rpy="0 0 0" />
      <mass value="1.0" />
      <inertia ixx="0.021041666666666667" ixy="0" ixz="0" iyy="0.1877083333333333" iyz="0" izz="0.20833333333333331" />
    </inertial>
  </link>
</robot>
